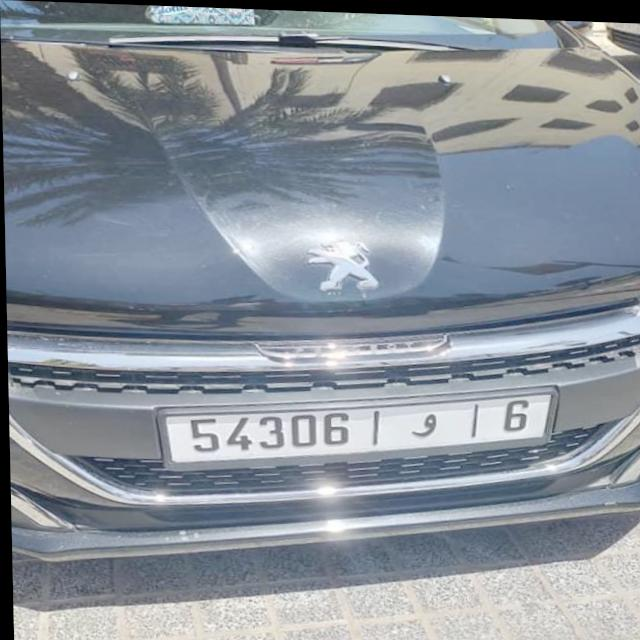License-Plate: (160, 389, 549, 463)
